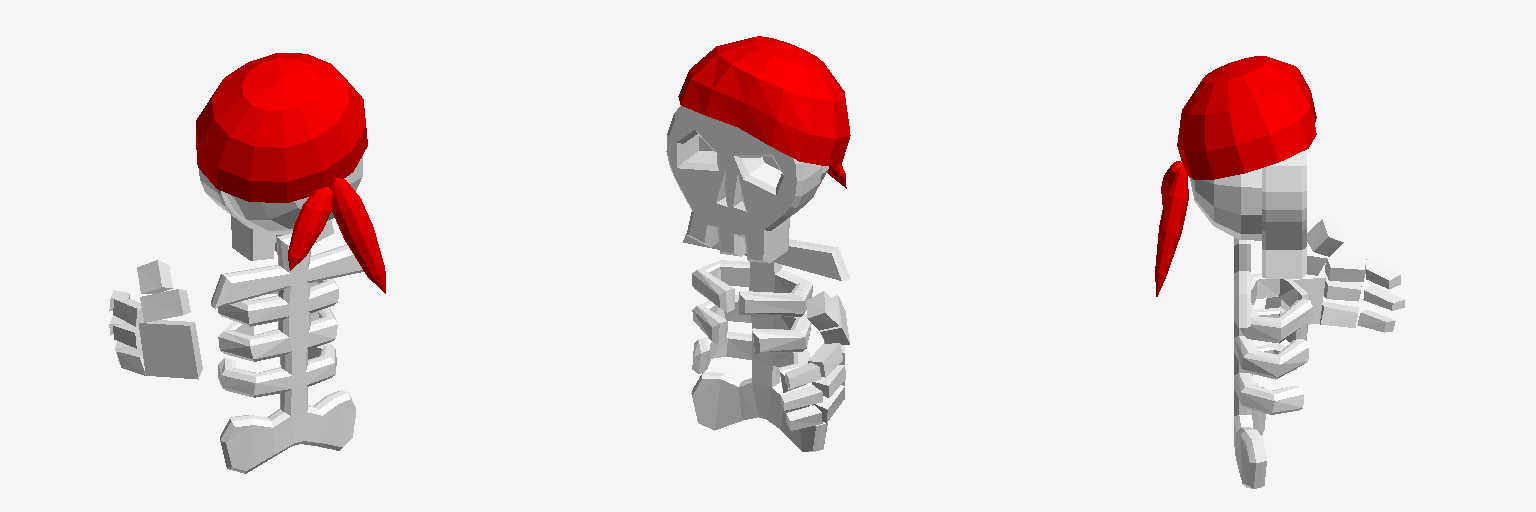
File: pirate_body.obj
3 views of the same model, side by side, from view 1: azimuth 30°, elevation 25°; view 2: azimuth 150°, elevation 25°; view 3: azimuth 270°, elevation 25° (orthographic).
Parts seen in each view (by area): view 1: Line02, Sphere02, Box02, Sphere03, Line01, Sphere01, Sphere04; view 2: Line02, Line01, Sphere02, Box02; view 3: Sphere02, Line02, Box02, Line01, Sphere01, Sphere03.
Part boxes in pixels (x1,y1,x2,y2): Line02: (211, 233, 363, 473); Sphere02: (196, 53, 367, 202); Box02: (109, 260, 202, 379); Sphere03: (329, 177, 385, 293); Line01: (199, 169, 333, 260); Sphere01: (225, 156, 362, 230); Sphere04: (288, 187, 333, 270); Line02: (683, 233, 849, 451); Line01: (666, 106, 821, 263); Sphere02: (678, 36, 850, 165); Box02: (781, 291, 849, 430); Sphere02: (1177, 56, 1316, 179); Line02: (1234, 237, 1312, 488); Box02: (1265, 219, 1404, 332); Line01: (1262, 150, 1306, 278); Sphere01: (1189, 168, 1261, 240); Sphere03: (1155, 164, 1188, 296).
Size of the model in its own units: 11.09 by 20.73 by 11.79.